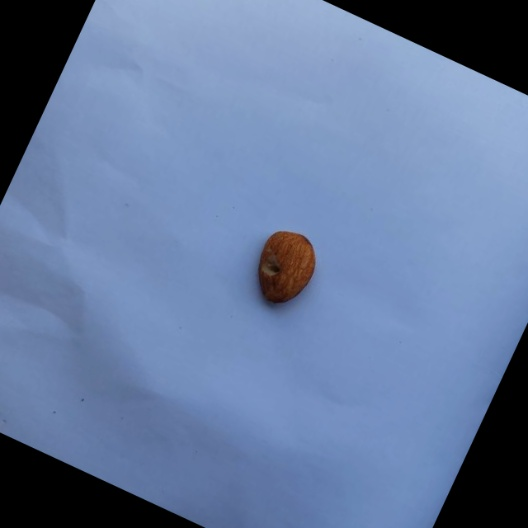grade3: (239, 218, 329, 318)
